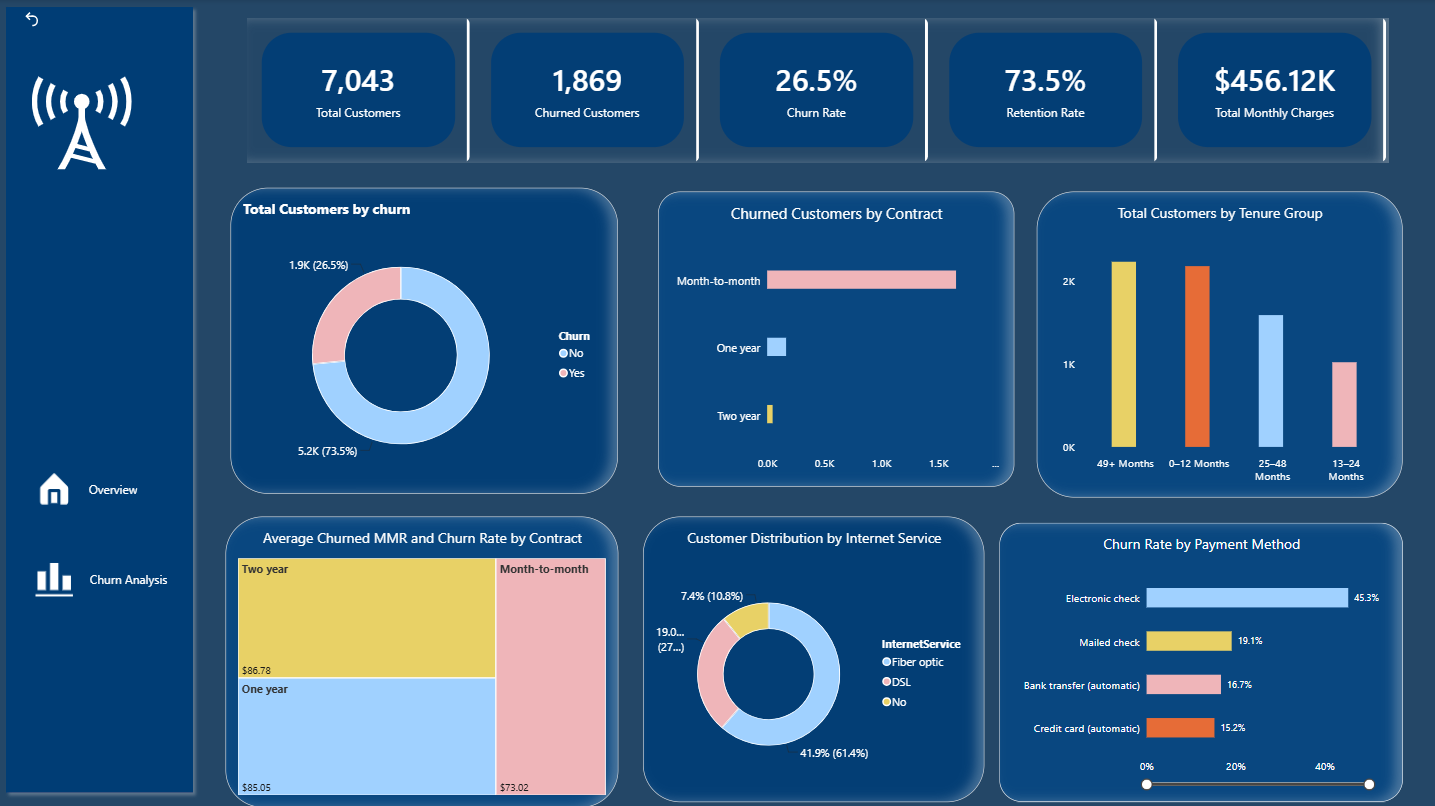

The page's visual inventory and layout, read from the dashboard file:
{"tool":"powerbi","page":{"name":"Executive Overview","canvas":[1920,1080],"ordinal":0},"visuals":[{"type":"shape","box":[1.4,1.4,267.8,1067.7],"z":0,"group":"g1"},{"type":"cardVisual","fields":{"Data":["Table Measure.Total Customers","Table Measure.Churned Customers","Table Measure.Churn Rate","Table Measure.Retention Rate","Table Measure.Total Monthly Charges"]},"box":[333,25.3,1525.5,193.6],"z":0},{"type":"actionButton","box":[49.5,592.5,187.2,124.2],"z":0,"group":"g2"},{"type":"group","id":"g1","title":"Group 2","box":[1.4,1.4,267.8,1067.7],"z":1000,"group":"g3"},{"type":"donutChart","title":"Total Customers by churn","fields":{"Category":["customer_records.Churn"],"Y":["Table Measure.Total Customers"]},"box":[311.3,251.5,517.6,409],"z":1000},{"type":"actionButton","box":[49.5,716.7,176.2,118.4],"z":1000,"group":"g2"},{"type":"clusteredBarChart","fields":{"Category":["customer_records.Contract"],"Y":["Table Measure.Churned Customers"]},"box":[881.3,257,475.9,394.5],"z":2000},{"type":"image","title":"Page logo","box":[44.4,82.4,134,164.3],"z":2500,"group":"g1"},{"type":"clusteredColumnChart","fields":{"Category":["customer_records.Tenure Group"],"Y":["Table Measure.Total Customers"]},"box":[1388,257,488.6,409],"z":3000},{"type":"group","id":"g2","title":"Group 1","box":[49.5,592.5,187.2,242.6],"z":3000,"group":"g1"},{"type":"clusteredBarChart","title":"Churn Rate by Payment Method","fields":{"Category":["customer_records.PaymentMethod"],"Y":["Table Measure.Churn Rate"]},"box":[1337.3,700.3,539.3,372.8],"z":4000},{"type":"treemap","fields":{"Group":["customer_records.Contract"],"Values":["Table Measure.Average Churned MMR"]},"box":[304,691.3,524.8,389.1],"z":5000},{"type":"donutChart","title":"Customer Distribution by Internet Service","fields":{"Category":["customer_records.InternetService"],"Y":["Table Measure.Churn Rate"]},"box":[861.4,691.3,456,381.8],"z":6000},{"type":"group","id":"g3","title":"Group 3","box":[1.4,1.4,267.8,1067.7],"z":7001,"group":"g4"},{"type":"actionButton","title":"Refresh filters ","box":[0,0,90.5,54.3],"z":7501,"group":"g4"},{"type":"group","id":"g4","title":"Group 4","box":[0,0,269.2,1069.1],"z":7502}]}

Visuals, with their boxes on the page's 1920x1080 design canvas (x1, y1, x2, y2). These are canvas units, not pixel positions in the 1435x806 screenshot, which may show the page scaled, cropped or inside an application window:
shape: (1, 1, 269, 1069)
cardVisual - Table Measure.Total Customers x Table Measure.Churned Customers: (333, 25, 1858, 219)
actionButton: (50, 592, 237, 717)
"Group 2" group: (1, 1, 269, 1069)
"Total Customers by churn" donutChart: (311, 252, 829, 660)
actionButton: (50, 717, 226, 835)
clusteredBarChart - customer_records.Contract x Table Measure.Churned Customers: (881, 257, 1357, 652)
"Page logo" image: (44, 82, 178, 247)
clusteredColumnChart - customer_records.Tenure Group x Table Measure.Total Customers: (1388, 257, 1877, 666)
"Group 1" group: (50, 592, 237, 835)
"Churn Rate by Payment Method" clusteredBarChart: (1337, 700, 1877, 1073)
treemap - customer_records.Contract x Table Measure.Average Churned MMR: (304, 691, 829, 1080)
"Customer Distribution by Internet Service" donutChart: (861, 691, 1317, 1073)
"Group 3" group: (1, 1, 269, 1069)
"Refresh filters " actionButton: (0, 0, 90, 54)
"Group 4" group: (0, 0, 269, 1069)
